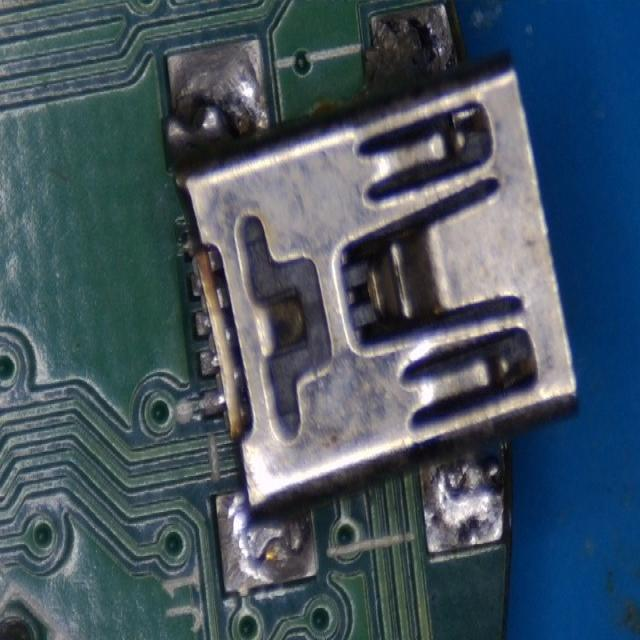Incorrect_installation: (162, 1, 581, 598)
